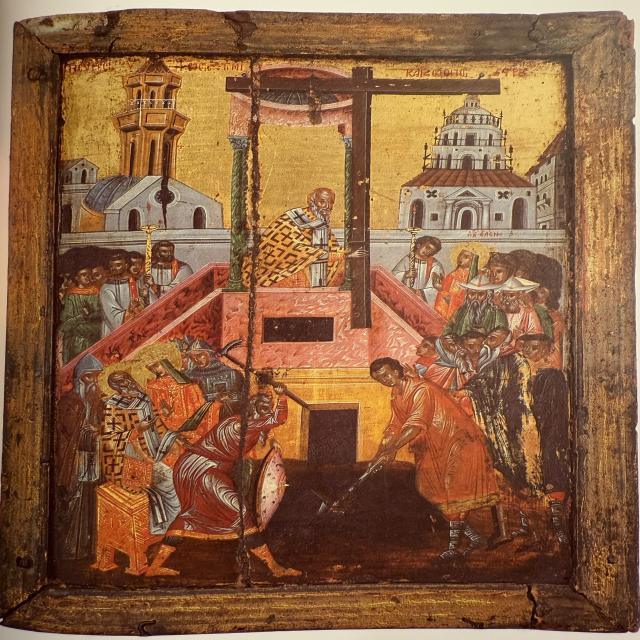aura: (95, 362, 149, 400), (455, 239, 496, 270)
church_father: (93, 356, 183, 528), (244, 177, 368, 292)
